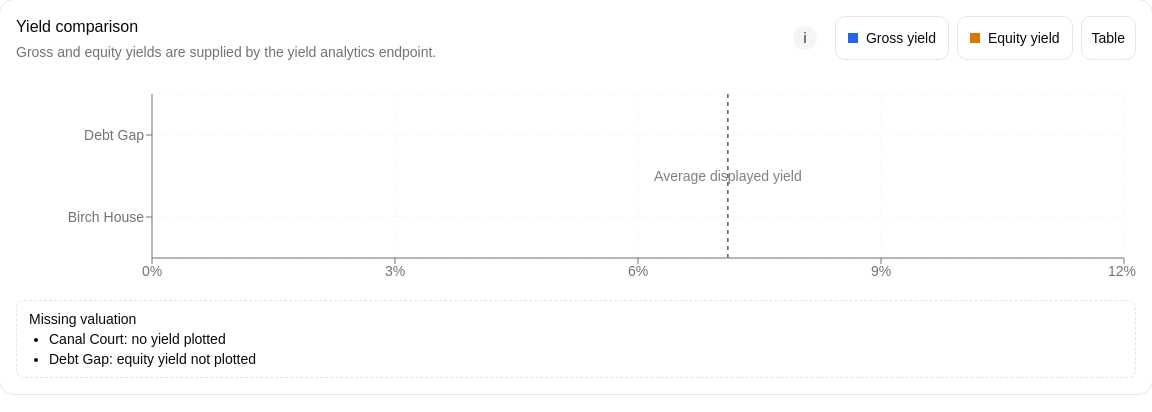
Scenario: YieldComparisonChart › shows missing valuations without fabricating a yield point
Expected: the element with test id "missing-valuation-callout" shows "Canal Court", [49,331,124,347]
Expected: the element with test id "missing-valuation-callout" shows "Canal Court: no yield plotted", [16,300,1136,378]
Click the button "Table" at (1108, 38), box [1080,16,1136,60]
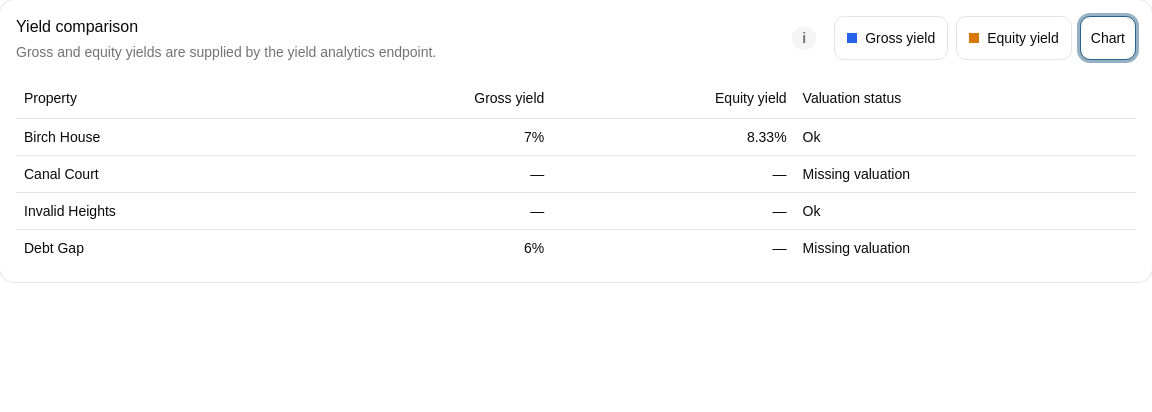
Now the table named "Yield comparison exact values" shows "Missing valuation", box [803,166,910,182]
